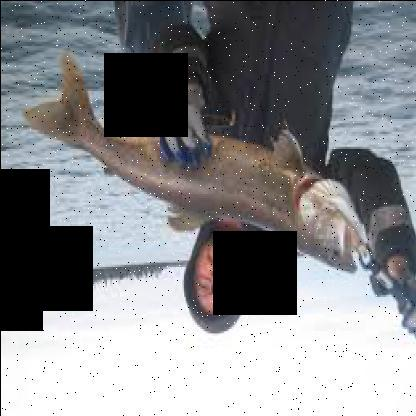fish: (30, 65, 370, 282)
